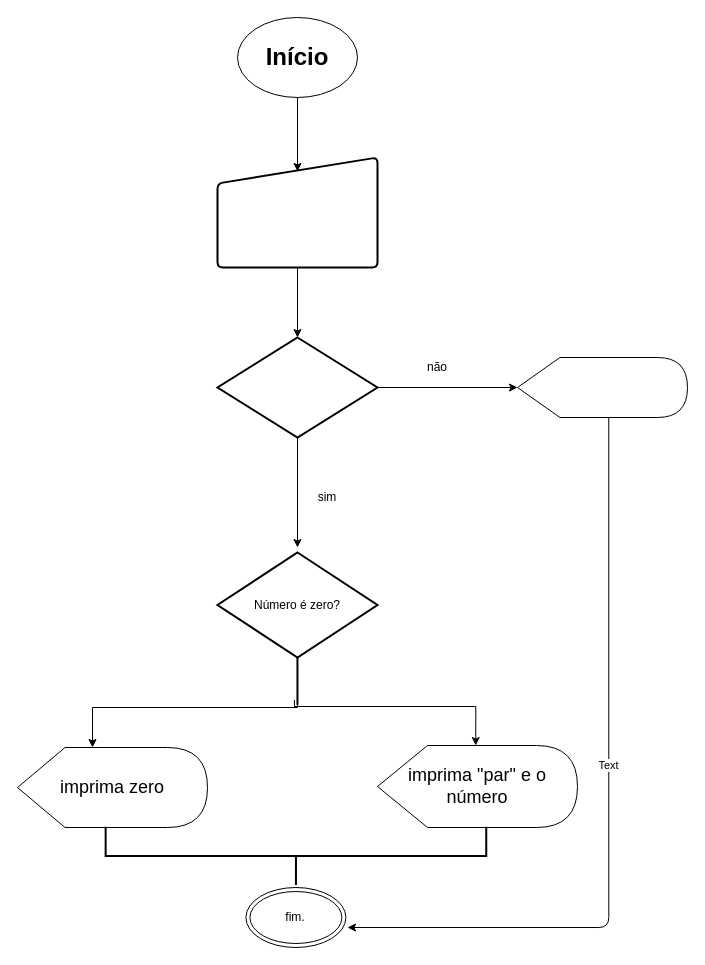
This 705x965 diagram has some shape labels left out. The shapes that lost their labels are listed below. From the top down, each one's box as (x1, y1, x2, y2) in pixels, then its label:
(216, 156, 378, 268): Número de alunos
(216, 336, 378, 438): Número é par?
(516, 356, 688, 418): imprima "impar" e o número
